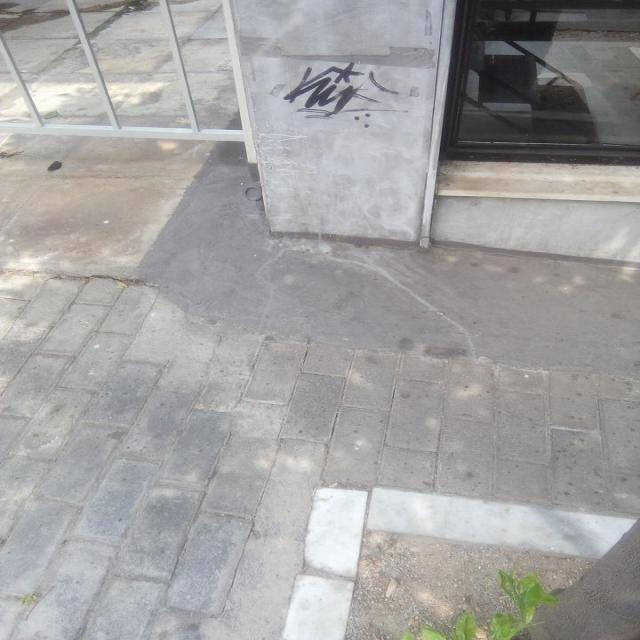nonspitting: (284, 58, 408, 128)
